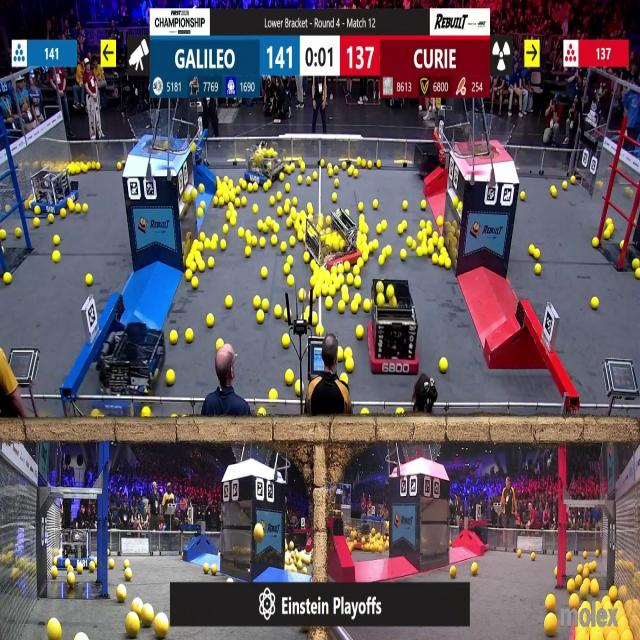ball_airborne: (253, 523, 263, 542)
ball_ground: (127, 615, 141, 638), (156, 616, 170, 639), (544, 616, 556, 638), (48, 620, 60, 640), (142, 606, 153, 626), (544, 594, 554, 612), (116, 586, 126, 602), (590, 582, 600, 597), (167, 371, 175, 386), (441, 357, 449, 372), (608, 587, 616, 602), (285, 372, 293, 386), (570, 595, 578, 609), (170, 332, 178, 345), (282, 336, 290, 349), (346, 358, 354, 371), (275, 306, 283, 319), (338, 348, 346, 361), (185, 328, 192, 342), (356, 325, 363, 339), (224, 295, 232, 307), (256, 311, 264, 323), (132, 600, 140, 612), (377, 293, 385, 305), (342, 290, 350, 302), (142, 408, 150, 419), (184, 256, 192, 267), (354, 276, 361, 288), (470, 563, 477, 575), (207, 314, 214, 326), (4, 274, 11, 286), (263, 300, 270, 312), (534, 265, 541, 277), (567, 582, 574, 594), (253, 296, 260, 308), (308, 203, 315, 215), (270, 389, 278, 399), (324, 300, 332, 310), (294, 382, 300, 395), (339, 303, 346, 314), (363, 301, 370, 312), (87, 275, 94, 286), (216, 339, 223, 350), (54, 251, 61, 262), (126, 569, 133, 580), (68, 201, 75, 212), (439, 257, 446, 268), (592, 296, 598, 308), (191, 277, 197, 289), (298, 288, 304, 300), (352, 303, 358, 315), (51, 566, 57, 578), (312, 313, 318, 325), (198, 264, 206, 273), (263, 268, 269, 280), (418, 247, 426, 256), (289, 207, 297, 216), (68, 572, 75, 582), (108, 559, 115, 569), (347, 275, 354, 285), (316, 325, 323, 335), (354, 266, 361, 276), (360, 223, 367, 233), (445, 261, 452, 271), (345, 348, 352, 358), (76, 564, 83, 574), (377, 282, 384, 292), (451, 566, 457, 577), (400, 249, 406, 260), (208, 257, 214, 268), (190, 188, 196, 199), (426, 221, 432, 232), (81, 204, 88, 213), (420, 201, 427, 210), (314, 287, 321, 296), (93, 411, 100, 420), (194, 252, 201, 261), (428, 245, 435, 254), (220, 240, 226, 250), (0, 231, 6, 241), (287, 276, 293, 286), (593, 238, 599, 248), (284, 266, 290, 276), (184, 270, 190, 280), (386, 246, 392, 256), (380, 255, 386, 265), (304, 252, 310, 262), (252, 237, 258, 247), (55, 236, 61, 246), (289, 238, 295, 248), (212, 564, 218, 574), (91, 562, 97, 572), (204, 564, 210, 574), (272, 236, 278, 246), (431, 254, 437, 264), (604, 231, 610, 241), (371, 200, 377, 210), (238, 229, 244, 239), (280, 243, 286, 253), (297, 232, 303, 242), (633, 258, 639, 268), (243, 245, 249, 255), (345, 264, 351, 274), (277, 207, 283, 217), (362, 253, 368, 263), (322, 286, 328, 296), (284, 205, 290, 215), (205, 240, 211, 250), (286, 218, 292, 228), (328, 286, 334, 296), (534, 249, 540, 259), (218, 197, 224, 207), (439, 216, 445, 226), (551, 186, 557, 196), (400, 220, 406, 230), (311, 262, 317, 272), (240, 178, 246, 188), (294, 220, 300, 230), (453, 198, 459, 208), (354, 293, 361, 301), (361, 410, 368, 418), (270, 198, 277, 206), (245, 230, 252, 238), (252, 183, 259, 191), (408, 237, 413, 248), (529, 245, 534, 256), (14, 230, 20, 239), (47, 214, 53, 223), (34, 218, 40, 227), (61, 209, 67, 218), (222, 223, 228, 232), (292, 198, 298, 207), (274, 223, 280, 232), (35, 207, 41, 216), (252, 205, 258, 214), (75, 204, 81, 213), (418, 233, 424, 242), (247, 182, 253, 191), (427, 238, 433, 247), (382, 221, 388, 230), (236, 199, 242, 208), (267, 217, 273, 226), (335, 167, 341, 176), (439, 238, 445, 247), (576, 565, 582, 574), (81, 164, 87, 173), (222, 192, 228, 201), (288, 165, 294, 174), (259, 238, 264, 248), (402, 201, 407, 211), (257, 220, 262, 230), (213, 198, 218, 208), (242, 198, 247, 208), (311, 277, 316, 287), (305, 312, 310, 322), (299, 164, 304, 174), (74, 635, 84, 640), (115, 164, 122, 171), (395, 410, 402, 417), (562, 181, 568, 189), (123, 560, 129, 568), (212, 235, 218, 243), (284, 183, 290, 191), (226, 202, 232, 210), (258, 410, 264, 418), (96, 164, 102, 172), (372, 239, 378, 247), (222, 176, 228, 184), (442, 248, 448, 256), (357, 259, 363, 267), (228, 194, 234, 202), (216, 188, 222, 196), (336, 282, 342, 290), (331, 192, 336, 201), (421, 220, 426, 229), (521, 190, 526, 199), (287, 255, 292, 264), (358, 203, 363, 212), (200, 233, 205, 242), (232, 217, 237, 226), (377, 224, 382, 233), (349, 168, 354, 177), (190, 264, 195, 273), (566, 553, 571, 562), (368, 241, 373, 250), (336, 179, 341, 188), (284, 309, 288, 320), (264, 224, 270, 231), (226, 576, 232, 583), (320, 161, 326, 168), (636, 270, 640, 280), (531, 553, 536, 561), (570, 176, 575, 184), (200, 184, 205, 192), (307, 177, 312, 185), (265, 182, 270, 190), (199, 209, 204, 217), (277, 194, 282, 202), (304, 567, 309, 575), (192, 240, 196, 250), (366, 162, 371, 170), (65, 560, 70, 568), (312, 293, 317, 301), (432, 232, 437, 240), (584, 552, 589, 560), (555, 567, 559, 576), (354, 169, 358, 178), (313, 173, 318, 180), (237, 185, 242, 192), (359, 215, 364, 222), (225, 212, 230, 219), (297, 176, 301, 184), (516, 552, 520, 560), (328, 169, 332, 177), (280, 173, 284, 181), (378, 162, 382, 170), (228, 183, 232, 191), (621, 241, 625, 249), (306, 306, 311, 312), (596, 551, 600, 558), (343, 161, 347, 168), (216, 177, 220, 183), (108, 550, 111, 557), (202, 202, 205, 208)
goal: (461, 118, 516, 158), (129, 116, 187, 152)
robot_blue: (96, 323, 165, 413), (29, 159, 77, 214), (243, 140, 284, 183), (58, 528, 96, 568)
robot_red: (371, 280, 422, 376), (304, 215, 357, 268)
